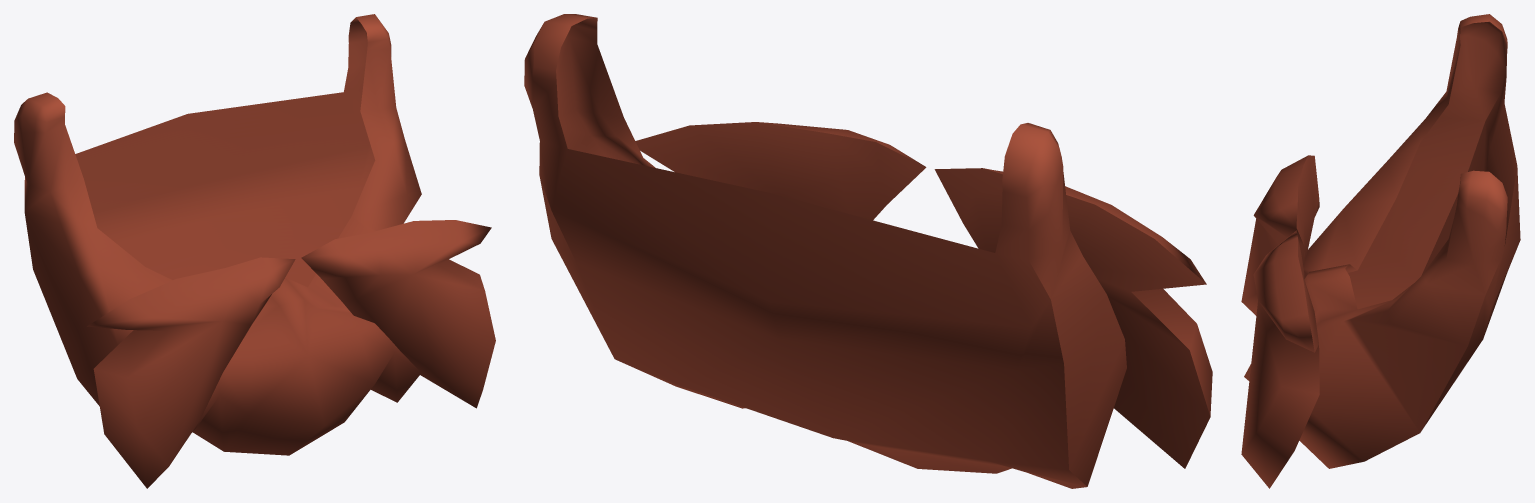
The model's file is Beard_Brown_15.fbx.
The picture shows the model from 3 angles, left to right: view 1: azimuth 30°, elevation 25°; view 2: azimuth 150°, elevation 25°; view 3: azimuth 270°, elevation 25°; orthographic projection. The views are drawn at different scales.
Visible parts, largest first — view 1: Beard_Brown_15; view 2: Beard_Brown_15; view 3: Beard_Brown_15.
Part boxes in pixels (x1,y1,x2,y2): Beard_Brown_15: (14,14,495,488); Beard_Brown_15: (524,14,1212,488); Beard_Brown_15: (1241,14,1520,488).
Size of the model in its own units: 57.97 by 45.99 by 34.69.
